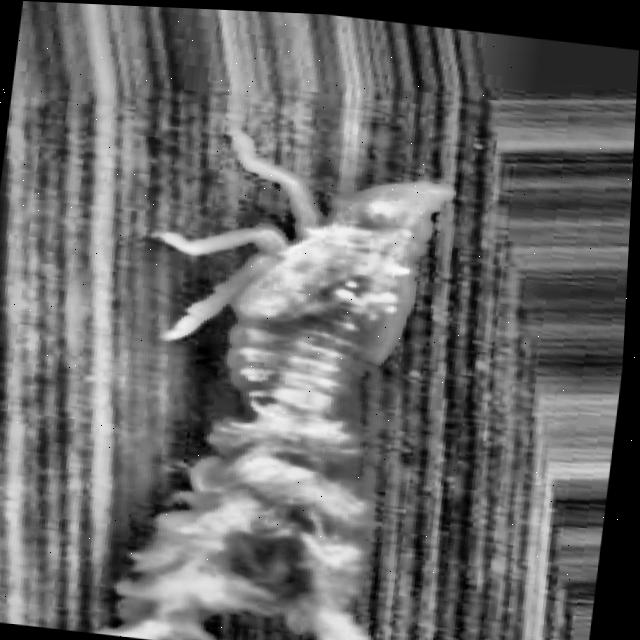Pyrilla-perpusilla: (69, 119, 509, 640)
